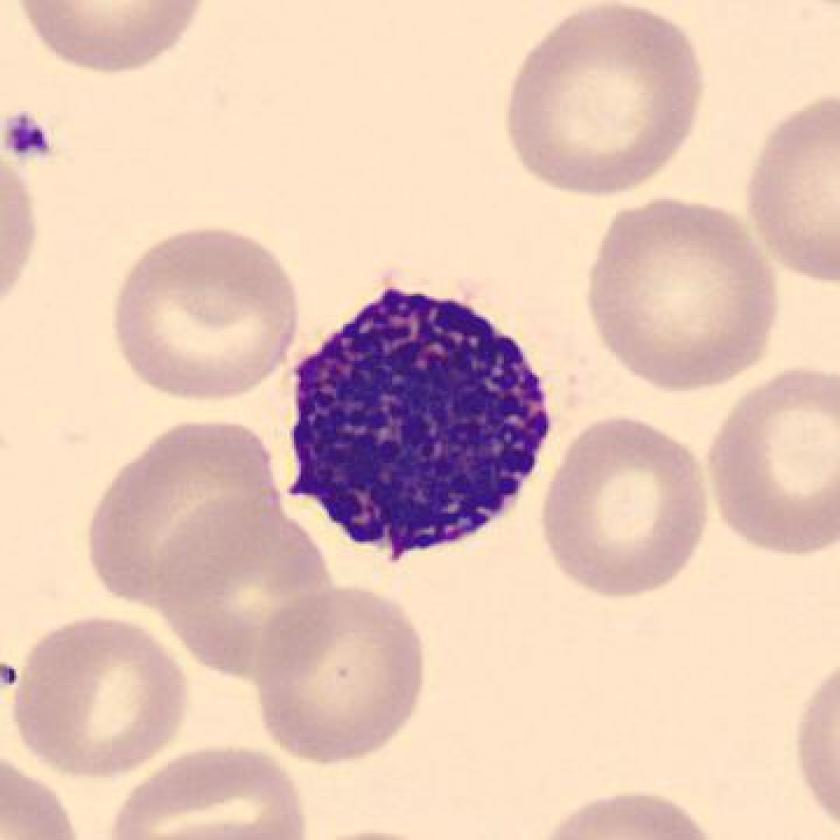basophil: (284, 281, 557, 556)
